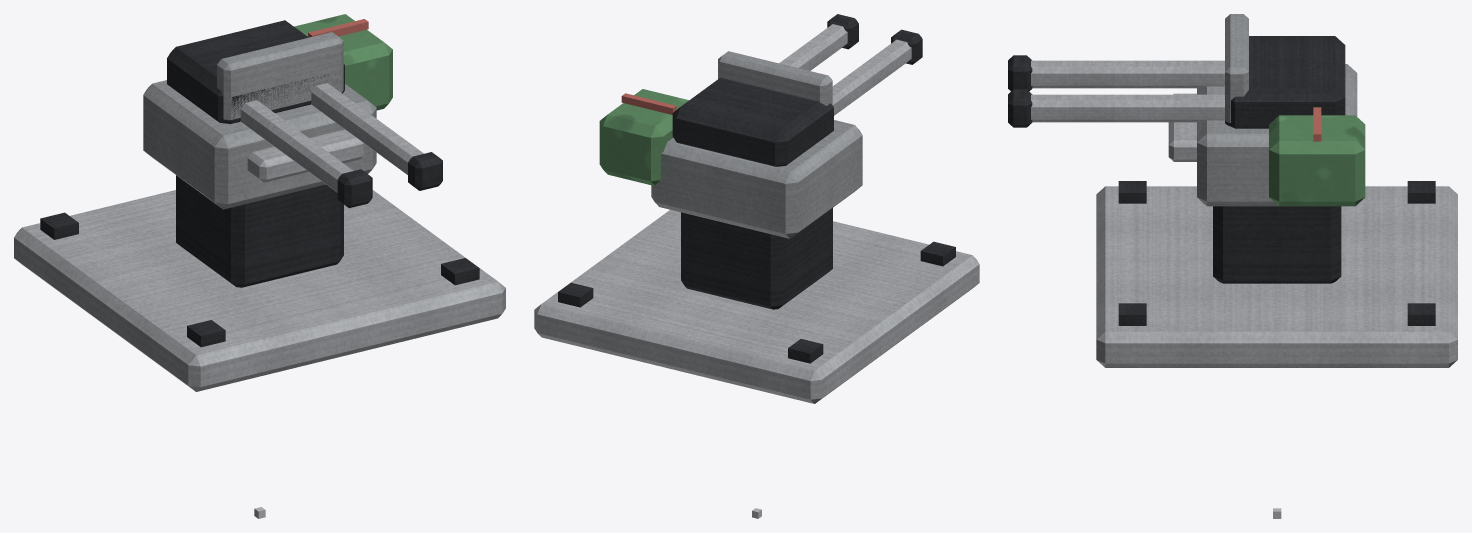
File: rv_furn_turret.gltf
3 views of the same model, side by side, from view 1: azimuth 30°, elevation 25°; view 2: azimuth 150°, elevation 25°; view 3: azimuth 270°, elevation 25° (orthographic). The views are drawn at different scales.
Parts seen in each view (by area): view 1: RV_Furn_Turret; view 2: RV_Furn_Turret; view 3: RV_Furn_Turret.
Boxes of the visible parts, left/top/right/bottom form: RV_Furn_Turret: left=14, top=14, right=505, bottom=518; RV_Furn_Turret: left=534, top=14, right=979, bottom=518; RV_Furn_Turret: left=1008, top=14, right=1457, bottom=518.
Size of the model in its own units: 0.9 by 1.31 by 1.12.
6 materials, 5 textured.
